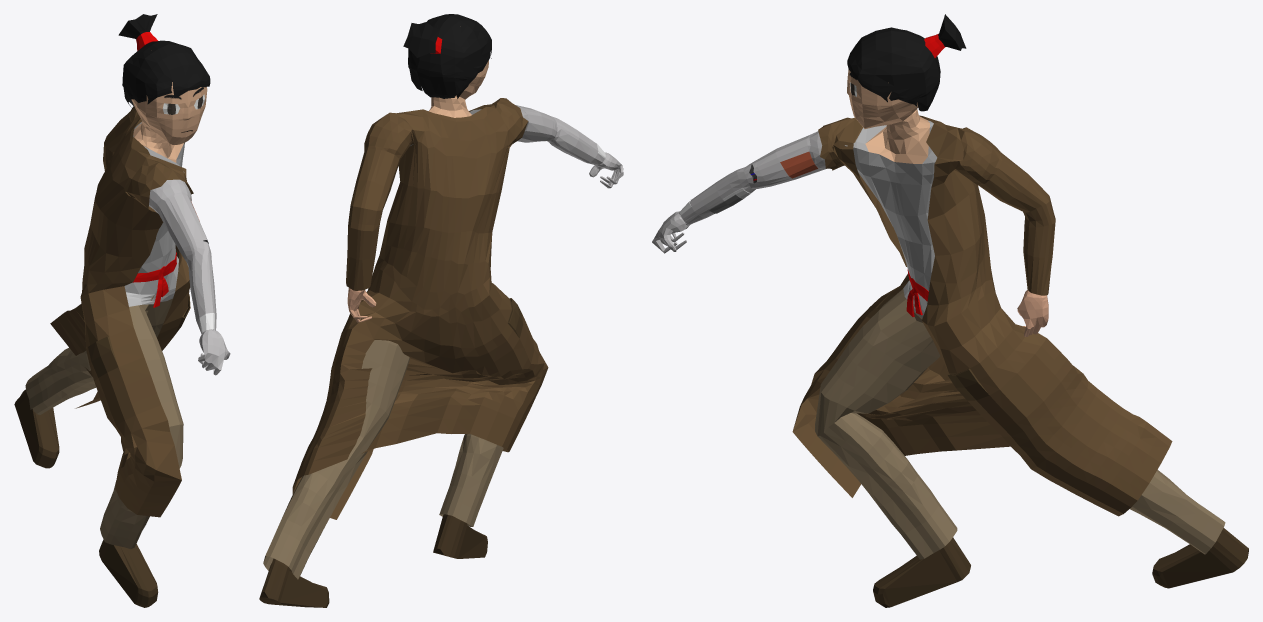
The model's file is OneAnimationTest_000014.obj.
The picture shows the model from 3 angles, left to right: view 1: azimuth 30°, elevation 25°; view 2: azimuth 150°, elevation 25°; view 3: azimuth 270°, elevation 25°; orthographic projection. The views are drawn at different scales.
Parts seen in each view (by area): view 1: Jacket_Cube, Body_Cube.003, Hair_Cube.004; view 2: Jacket_Cube, Body_Cube.003, Hair_Cube.004; view 3: Jacket_Cube, Body_Cube.003, Hair_Cube.004.
Part boxes in pixels (x1=…): Jacket_Cube: x1=50, y1=106, x2=193, y2=517; Body_Cube.003: x1=14, y1=82, x2=230, y2=607; Hair_Cube.004: x1=118, y1=14, x2=210, y2=107; Jacket_Cube: x1=292, y1=98, x2=548, y2=519; Body_Cube.003: x1=259, y1=60, x2=623, y2=607; Hair_Cube.004: x1=403, y1=14, x2=491, y2=98; Jacket_Cube: x1=792, y1=115, x2=1172, y2=516; Body_Cube.003: x1=652, y1=69, x2=1248, y2=607; Hair_Cube.004: x1=847, y1=14, x2=966, y2=111.
Bounding box in the file's own units: 0.9025 × 3.63 × 3.28.
